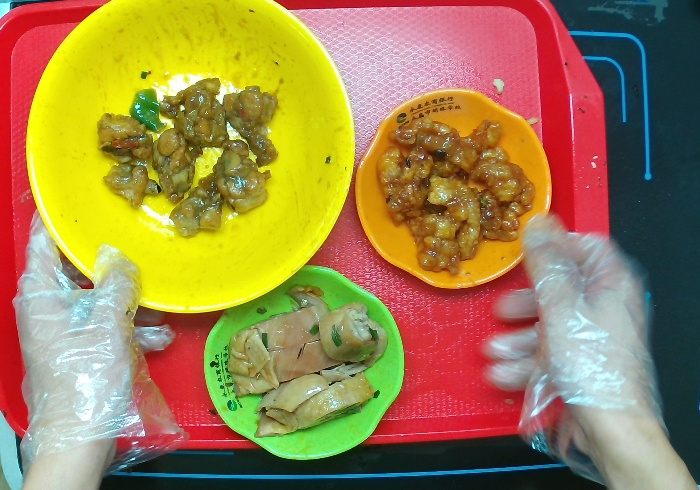YKMZ-Huang_Se_Tang_Wan: (23, 1, 355, 320)
YKMZ-Ju_Se_Ao_Bian_Wan: (351, 91, 555, 287)
YKMZ-Lv_Se_Ao_Bian_Wan: (201, 266, 409, 459)
